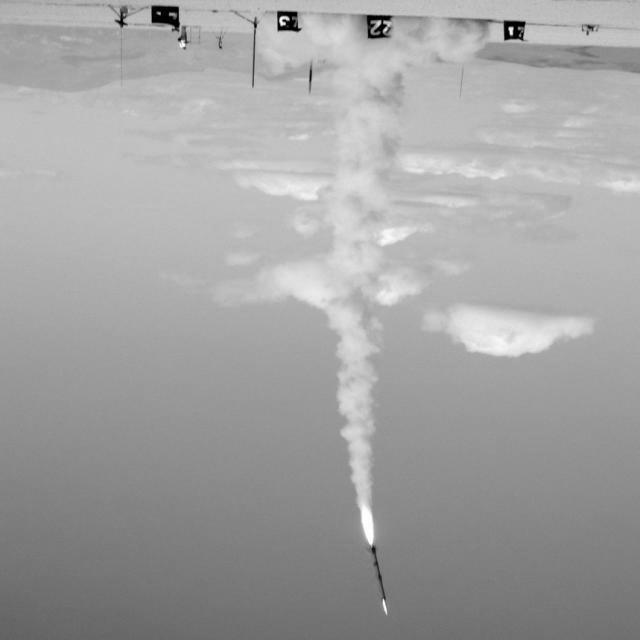missile: (362, 541, 393, 618)
